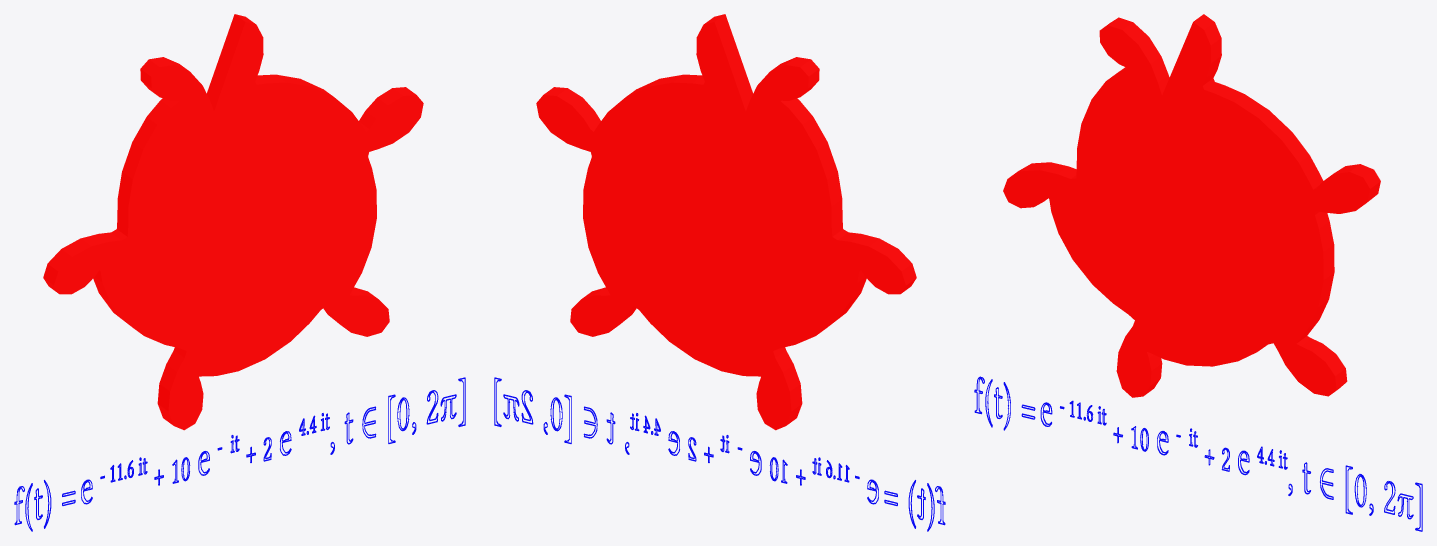
File: Niym.glb
3 views of the same model, side by side, from view 1: azimuth 30°, elevation 25°; view 2: azimuth 150°, elevation 25°; view 3: azimuth 330°, elevation 25° (orthographic).
Size of the model in its own units: 1.2 by 1.18 by 0.05.
